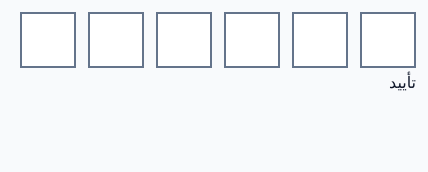
it: OtpInput › keeps the tab stop on the box the arrows moved to, so Tab leaves the group at once
This screenshot has width=428, height=172.
Later steps or results of the test are not shown.
Click the field named "رقم ۱". click: (48, 40)
box: [20,12,76,68]
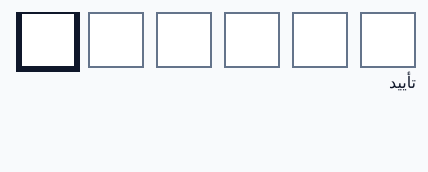
Type keys "123"
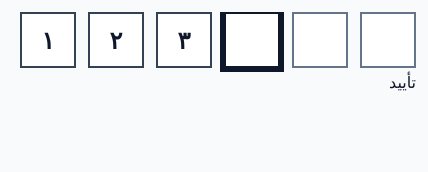
Press Arrowleft Arrowleft
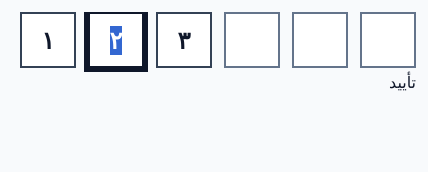
Now the field named "رقم ۲" has attribute tabindex="0", box [88,12,144,68]
